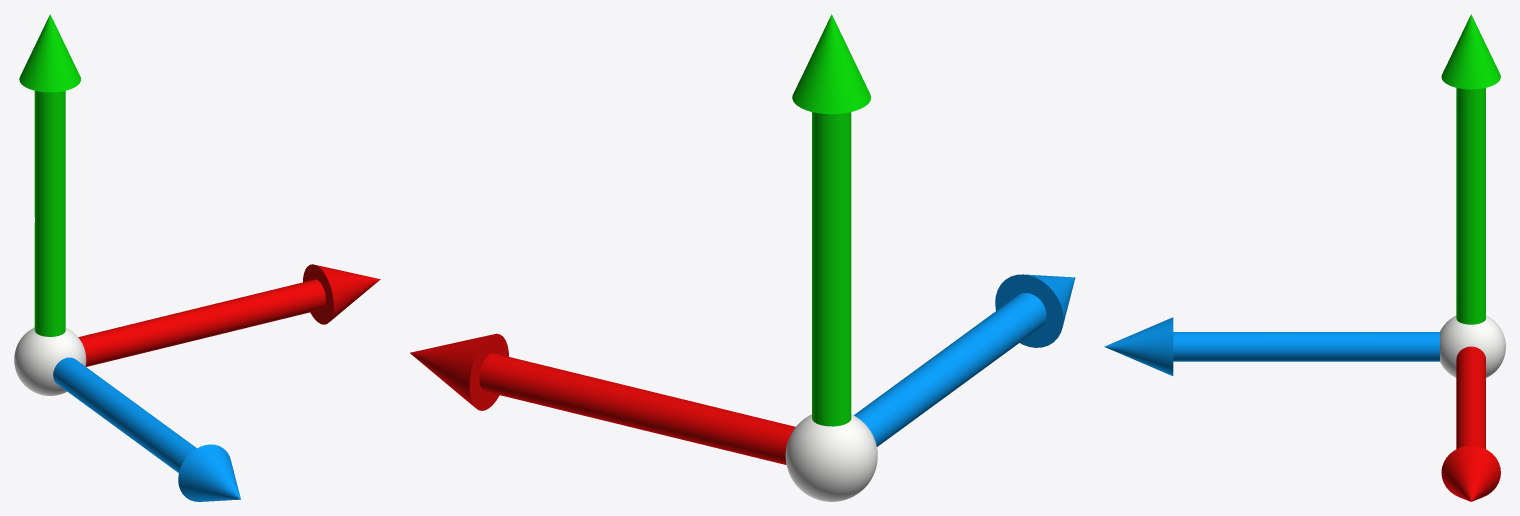
The model's file is 3D_Coordinate_System.gltf.
3 renders of one model, left to right at view 1: azimuth 30°, elevation 25°; view 2: azimuth 150°, elevation 25°; view 3: azimuth 270°, elevation 25°, orthographic. The views are drawn at different scales.
Visible parts, largest first — view 1: Body1, Body3, Body4, Body2; view 2: Body1, Body3, Body4, Body2; view 3: Body4, Body1, Body3, Body2.
Boxes of the visible parts, x1,y1,x2,y2 form: Body1: (19, 14, 80, 336); Body3: (78, 264, 380, 366); Body4: (53, 357, 240, 501); Body2: (14, 327, 86, 395); Body1: (792, 14, 870, 426); Body3: (410, 333, 795, 464); Body4: (854, 274, 1075, 446); Body2: (785, 414, 877, 501); Body4: (1104, 317, 1439, 375); Body1: (1441, 14, 1500, 324); Body3: (1441, 346, 1500, 501); Body2: (1440, 315, 1505, 377).
Size of the model in its own units: 202 by 202 by 202.
